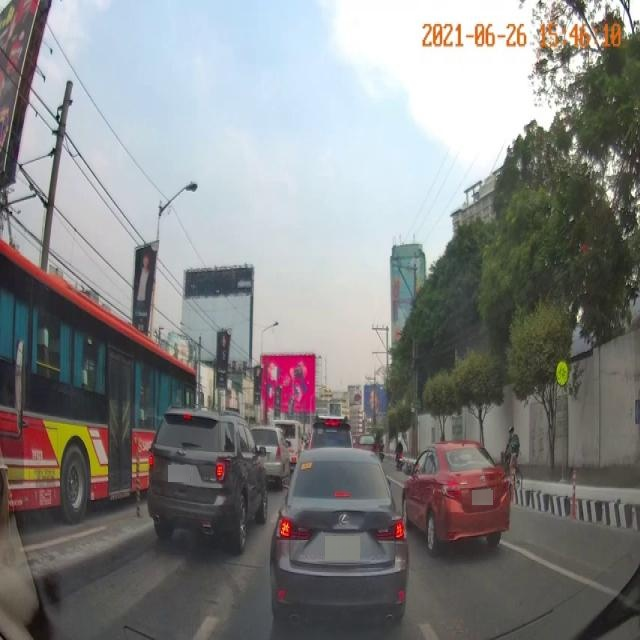bus: (1, 232, 200, 530)
car: (149, 410, 268, 562), (399, 448, 514, 555)
motorcycle: (396, 430, 404, 473)
